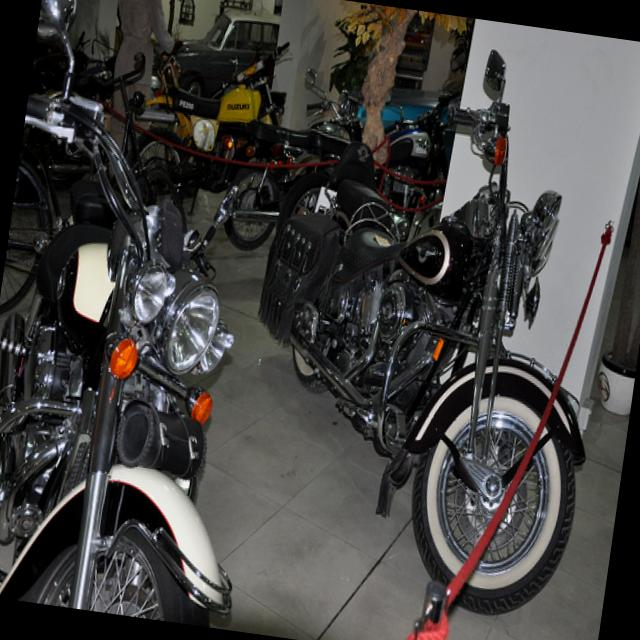Vehicle: (224, 23, 640, 598), (0, 0, 317, 624), (206, 54, 388, 265), (121, 21, 294, 228), (341, 30, 470, 246), (172, 2, 282, 108), (334, 52, 466, 140)
